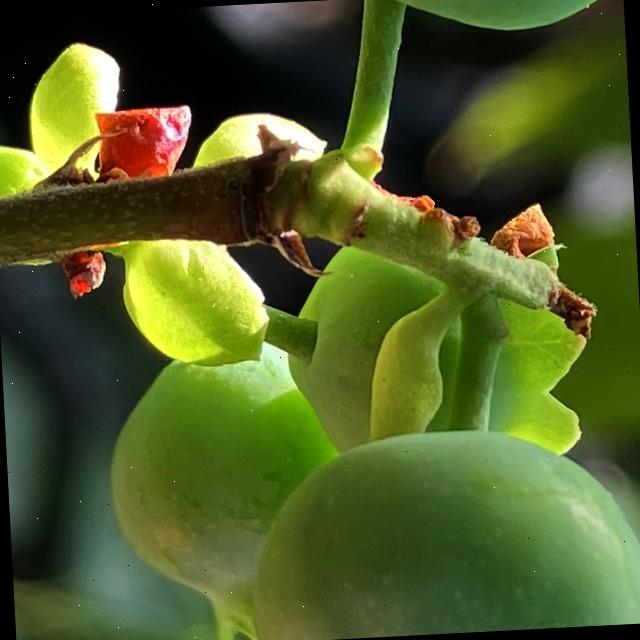Blueberries: (231, 413, 640, 640)
